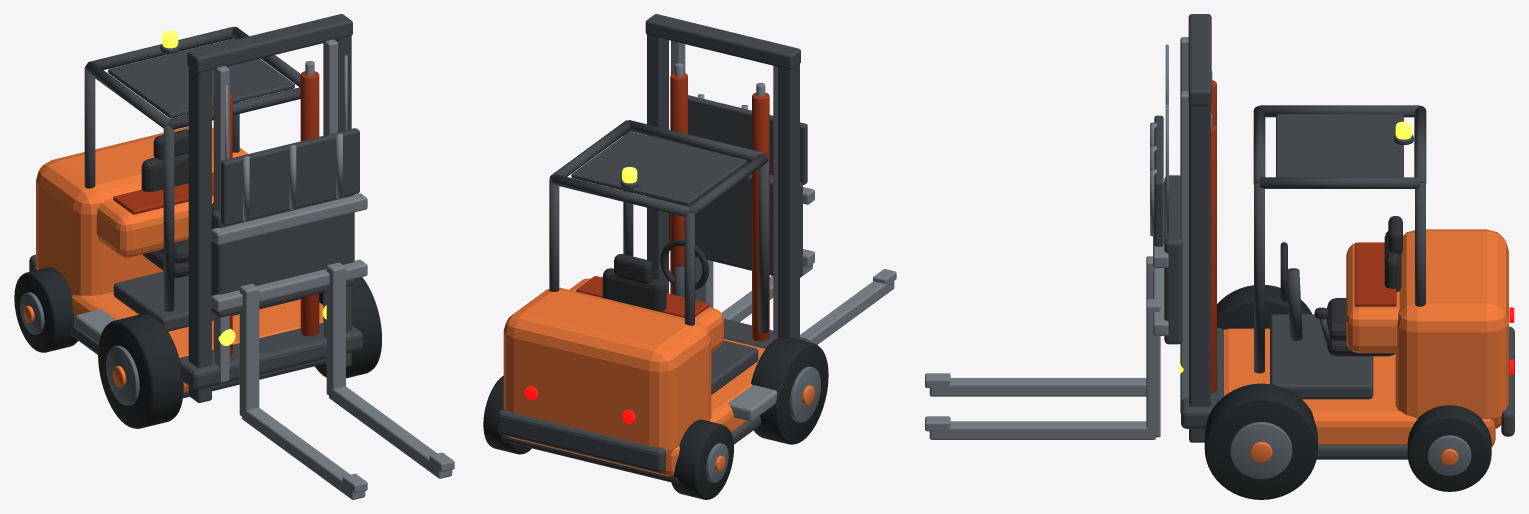
File: forklift_unity.fbx
3 views of the same model, side by side, from view 1: azimuth 30°, elevation 25°; view 2: azimuth 150°, elevation 25°; view 3: azimuth 270°, elevation 25° (orthographic). The views are drawn at different scales.
Parts seen in each view (by area): view 1: Rear counterweight, Fork carriage, Load backrest, Outer mast rail -0.9, Front tyre -1, Overhead guard mesh, Mast top beam, Mast base, Engine hood, Rear tyre -1, Main chassis, Operator footwell (+26 smaller); view 2: Rear counterweight, Overhead guard mesh, Outer mast rail -0.9, Front tyre -1, Fork carriage, Rear bumper, Mast top beam, Load backrest, Outer mast rail +0.9, Rear tyre -1, Lift cylinder -0.56, Main chassis (+25 smaller); view 3: Rear counterweight, Overhead guard mesh, Front tyre +1, Main chassis, Outer mast rail +0.9, Operator footwell, Rear tyre +1, Fork tine +0.56, Fork tine -0.56, Engine hood, Fork carriage, Inner mast rail +0.9 (+21 smaller).
Boxes of the visible parts, left/top/right/bottom form: Rear counterweight: left=36, top=126, right=247, bottom=295; Fork carriage: left=211, top=194, right=354, bottom=317; Load backrest: left=220, top=128, right=359, bottom=225; Outer mast rail -0.9: left=188, top=67, right=211, bottom=402; Front tyre -1: left=98, top=314, right=183, bottom=428; Overhead guard mesh: left=108, top=39, right=294, bottom=118; Mast top beam: left=187, top=14, right=352, bottom=73; Mast base: left=179, top=323, right=362, bottom=389; Engine hood: left=96, top=195, right=213, bottom=257; Rear tyre -1: left=14, top=267, right=77, bottom=352; Main chassis: left=72, top=292, right=323, bottom=392; Operator footwell: left=113, top=271, right=300, bottom=331; Rear counterweight: left=503, top=287, right=711, bottom=459; Overhead guard mesh: left=571, top=131, right=746, bottom=206; Outer mast rail -0.9: left=778, top=64, right=799, bottom=339; Front tyre -1: left=751, top=336, right=828, bottom=444; Fork carriage: left=669, top=167, right=802, bottom=277; Rear bumper: left=497, top=409, right=665, bottom=472; Mast top beam: left=645, top=14, right=800, bottom=69; Load backrest: left=688, top=95, right=807, bottom=184; Outer mast rail +0.9: left=647, top=34, right=668, bottom=293; Rear tyre -1: left=671, top=419, right=733, bottom=499; Lift cylinder -0.56: left=752, top=92, right=769, bottom=341; Main chassis: left=508, top=339, right=765, bottom=476; Rear counterweight: left=1395, top=229, right=1508, bottom=428; Overhead guard mesh: left=1276, top=114, right=1403, bottom=177; Front tyre +1: left=1204, top=383, right=1317, bottom=499; Main chassis: left=1224, top=328, right=1495, bottom=446; Outer mast rail +0.9: left=1189, top=105, right=1210, bottom=442; Operator footwell: left=1270, top=314, right=1373, bottom=399; Rear tyre +1: left=1407, top=405, right=1491, bottom=491; Fork tine +0.56: left=929, top=421, right=1156, bottom=439; Fork tine -0.56: left=929, top=378, right=1146, bottom=396; Engine hood: left=1346, top=242, right=1399, bottom=353; Fork carriage: left=1164, top=175, right=1182, bottom=344; Inner mast rail +0.9: left=1180, top=91, right=1188, bottom=412.
Bounding box in the file's own units: 316 × 473 × 646.
